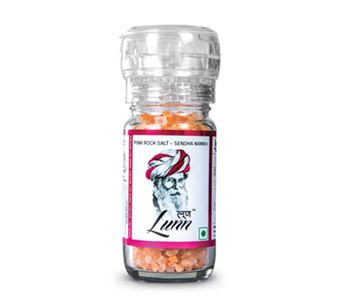glass_bottle: (113, 21, 225, 288)
